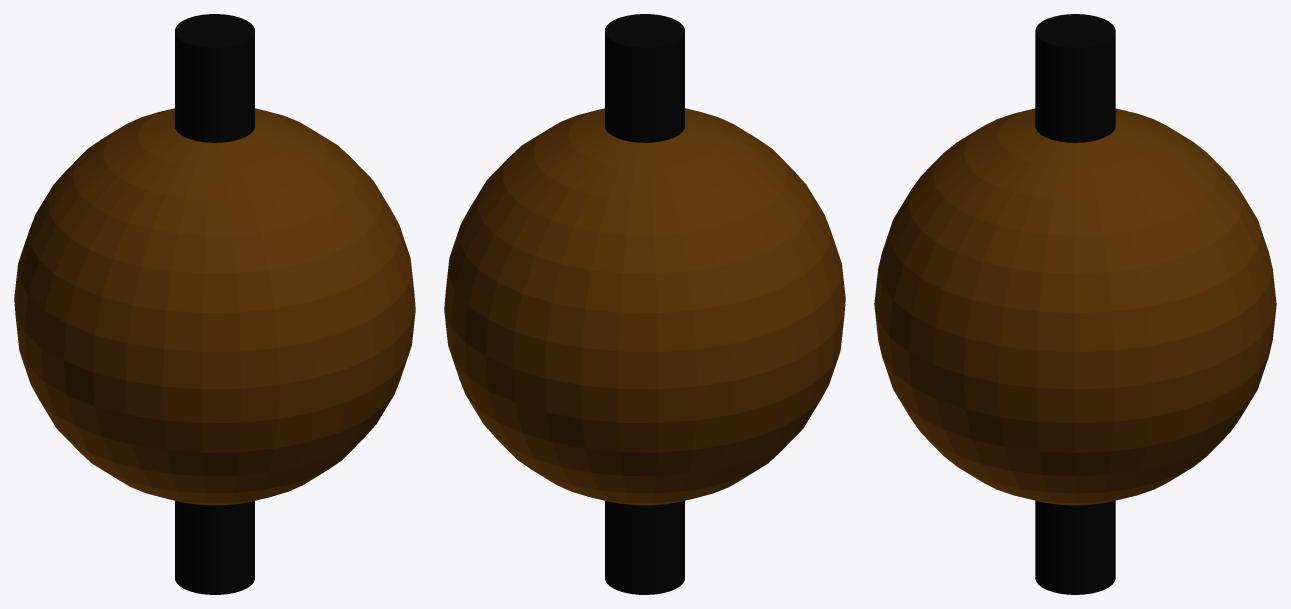
Rendered from skin_10_1_model.fbx.
3 renders of one model, left to right at view 1: azimuth 30°, elevation 25°; view 2: azimuth 150°, elevation 25°; view 3: azimuth 270°, elevation 25°, orthographic.
Visible parts, largest first — view 1: Sphere; view 2: Sphere; view 3: Sphere.
Boxes of the visible parts, bbox=[...] form: Sphere: bbox=[14, 14, 415, 594]; Sphere: bbox=[444, 14, 845, 594]; Sphere: bbox=[874, 14, 1276, 594].
Bounding box in the file's own units: 200 × 300 × 200.
